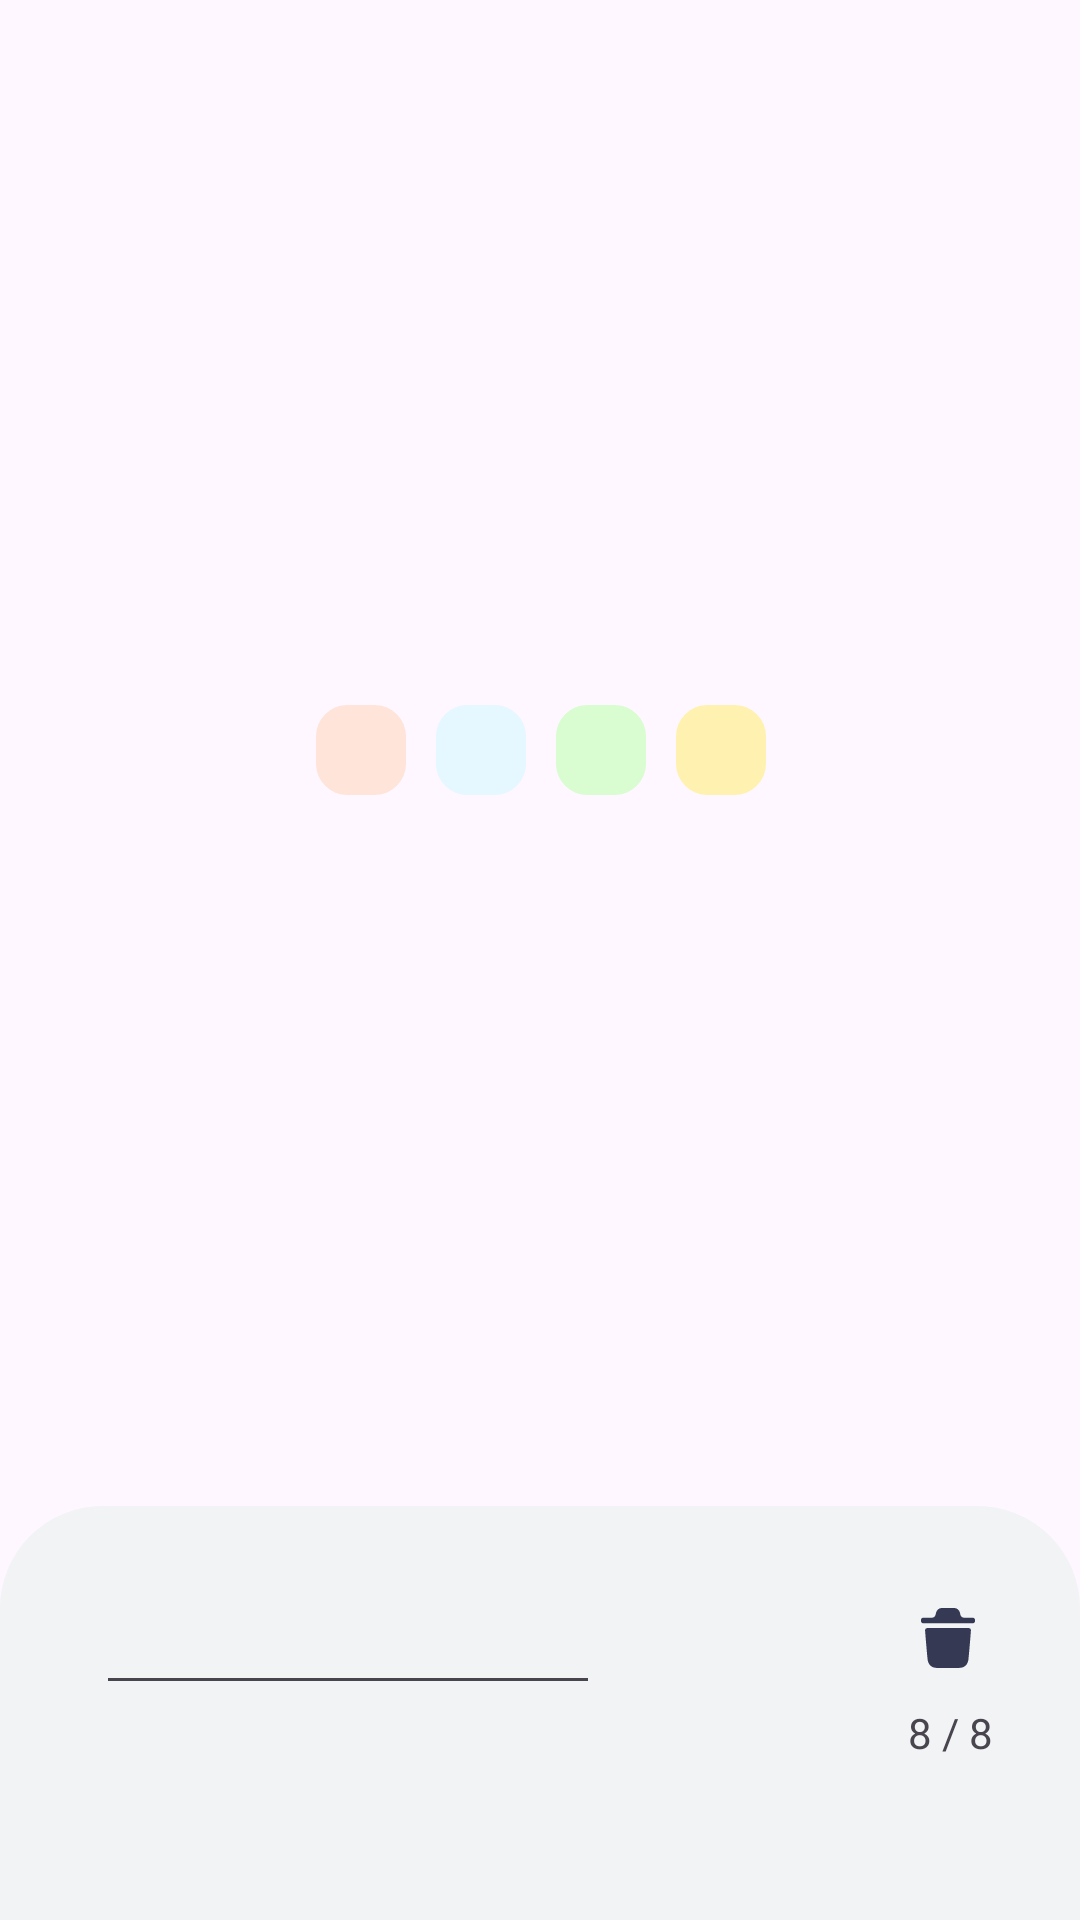

Icons on this 1080*1920 Android screen, each with its box as (x1, y1, x2, y2):
delete: (921, 1608, 975, 1668)
